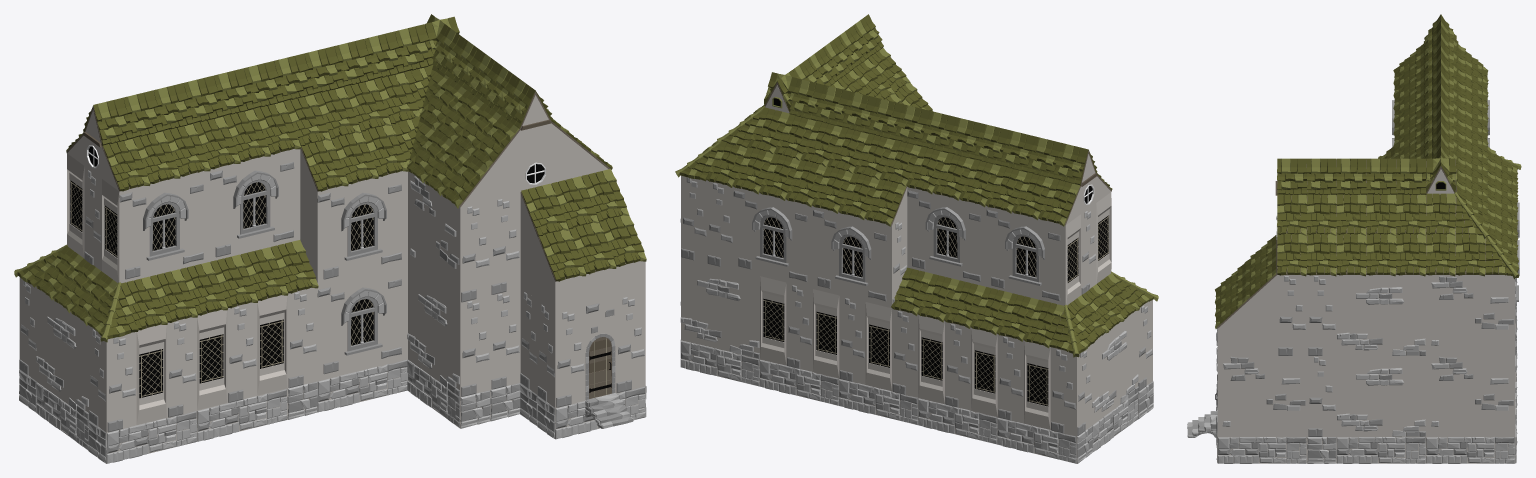
File: House_10.glb
3 renders of one model, left to right at view 1: azimuth 30°, elevation 25°; view 2: azimuth 150°, elevation 25°; view 3: azimuth 270°, elevation 25°, orthographic. The views are drawn at different scales.
Visible parts, largest first — view 1: WINDOW_03_5, WINDOW_03_2, WINDOW_03_3, WINDOW_03_4, WALL_03_3, WALL_01_2, WALL_03_4, WALL_06_16, WALL_06_17, WALL_06_7, WALL_06_15, WALL_06_11 (+89 smaller); view 2: WINDOW_03_9, WALL_03_5, WINDOW_03_8, WINDOW_03_6, WINDOW_03_7, WALL_03_4, FOUNDATION_03_11, FOUNDATION_03_12, FOUNDATION_03_10, WALL_06_24, FOUNDATION_03_9, WALL_06_23 (+70 smaller); view 3: WALL_03_2, WALL_01_3, WALL_01_4, WALL_03_6, WALL_01_6, FOUNDATION_03_14, FOUNDATION_03_15, FOUNDATION_03_13, WALL_06_25, WALL_06_29, WALL_06_30, ROOF_BASE_45 (+61 smaller).
Boxes of the visible parts, <box> form: WINDOW_03_5: <box>317,264,407,380</box>; WINDOW_03_2: <box>316,171,407,285</box>; WINDOW_03_3: <box>209,149,300,262</box>; WINDOW_03_4: <box>119,171,209,283</box>; WALL_03_3: <box>407,264,461,396</box>; WALL_01_2: <box>408,171,461,302</box>; WALL_03_4: <box>36,288,89,419</box>; WALL_06_16: <box>490,193,520,294</box>; WALL_06_17: <box>490,288,520,389</box>; WALL_06_7: <box>554,306,585,407</box>; WALL_06_15: <box>615,291,645,392</box>; WALL_06_11: <box>287,288,317,388</box>; WINDOW_03_9: <box>733,187,812,288</box>; WALL_03_5: <box>680,257,759,358</box>; WINDOW_03_8: <box>813,206,892,308</box>; WINDOW_03_6: <box>986,206,1065,305</box>; WINDOW_03_7: <box>907,187,986,287</box>; WALL_03_4: <box>1092,310,1138,424</box>; FOUNDATION_03_11: <box>918,397,997,444</box>; FOUNDATION_03_12: <box>997,417,1076,463</box>; FOUNDATION_03_10: <box>839,378,918,424</box>; WALL_06_24: <box>839,295,865,384</box>; FOUNDATION_03_9: <box>760,359,839,405</box>; WALL_06_23: <box>786,282,812,371</box>; WALL_03_2: <box>1336,355,1425,436</box>; WALL_01_3: <box>1217,355,1306,436</box>; WALL_01_4: <box>1426,355,1515,436</box>; WALL_03_6: <box>1336,275,1425,355</box>; WALL_01_6: <box>1426,275,1515,355</box>; FOUNDATION_03_14: <box>1336,436,1425,463</box>; FOUNDATION_03_15: <box>1217,436,1306,463</box>; FOUNDATION_03_13: <box>1426,436,1515,463</box>; WALL_06_25: <box>1307,355,1336,436</box>; WALL_06_29: <box>1307,275,1336,355</box>; WALL_06_30: <box>1277,275,1306,355</box>; ROOF_BASE_45: <box>1366,233,1396,276</box>.
Size of the model in its own units: 15.41 by 10.16 by 11.22.
Materials: 1 (1 with a texture image).
